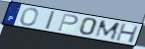0: (78, 17, 99, 37)
H: (115, 23, 140, 44)
I: (44, 10, 57, 31)
M: (93, 20, 121, 41)
O: (19, 8, 40, 27)
P: (56, 13, 79, 33)
